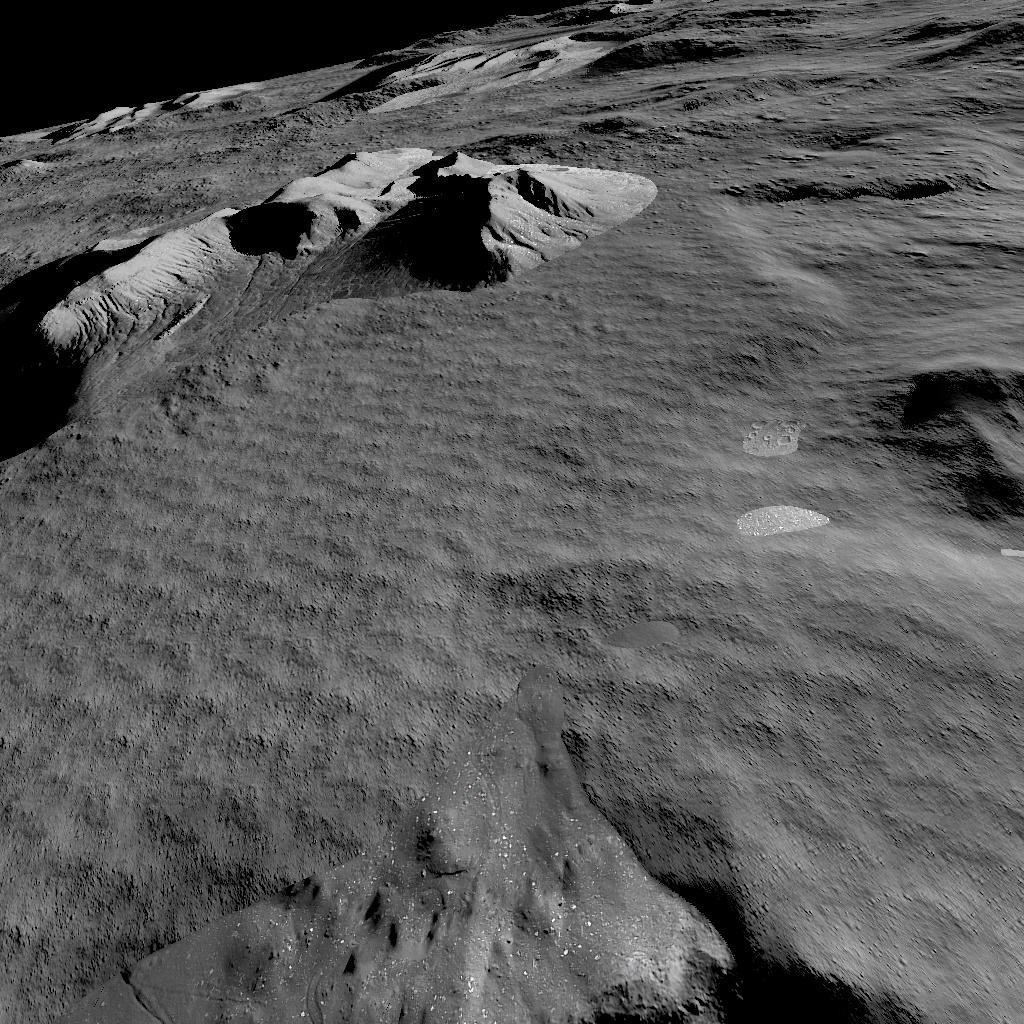Boulders: (0, 148, 655, 466), (336, 0, 815, 108), (54, 80, 260, 133)
Crater: (0, 835, 1024, 1024), (906, 350, 1024, 555), (718, 168, 960, 210)
Plan surface: (0, 478, 893, 822)
